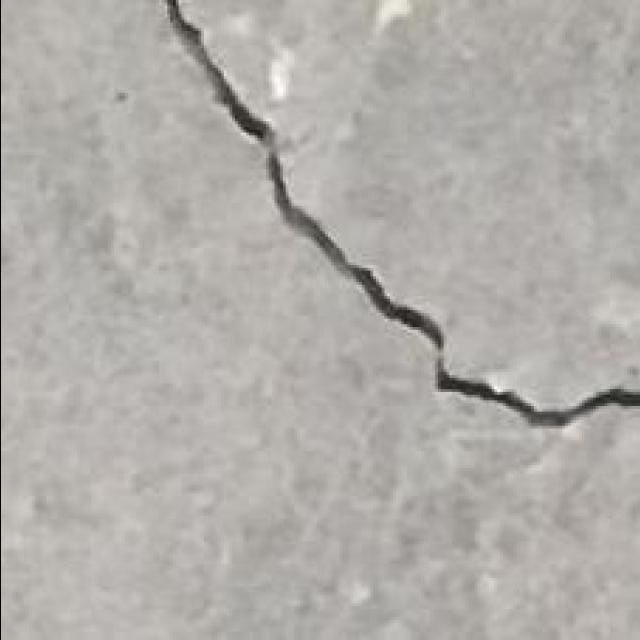Crack: (162, 0, 638, 429)
